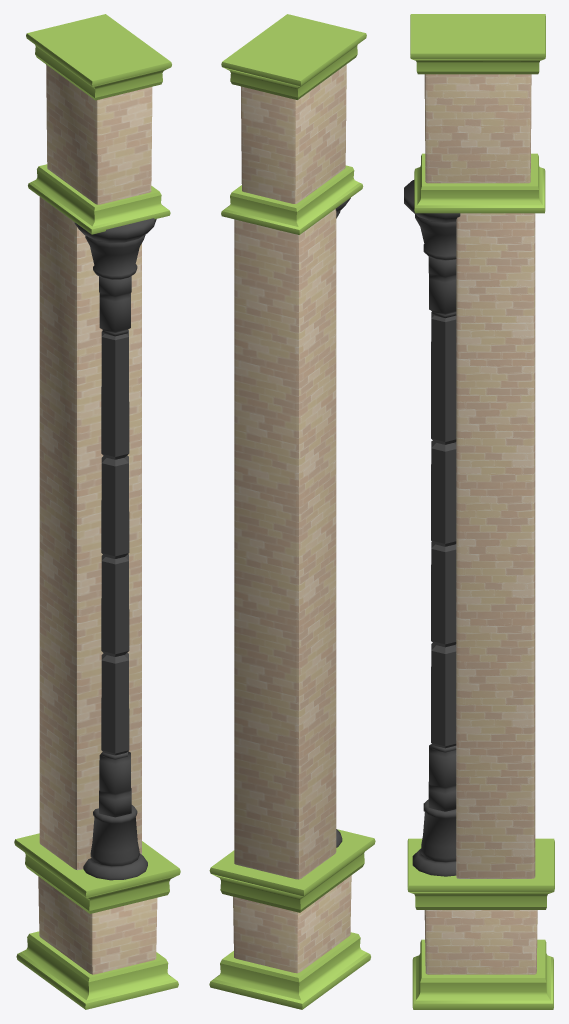
Rendered from SM_bridge_module_02.fbx.
The picture shows the model from 3 angles, left to right: view 1: azimuth 30°, elevation 25°; view 2: azimuth 150°, elevation 25°; view 3: azimuth 270°, elevation 25°; orthographic projection. The views are drawn at different scales.
Visible parts, largest first — view 1: Object33249; view 2: Object33249; view 3: Object33249.
Boxes of the visible parts, x1,y1,x2,y2 form: Object33249: (14,14,180,1009); Object33249: (209,14,375,1009); Object33249: (404,14,554,1009).
Bounding box in the file's own units: 139 × 1290 × 185.
